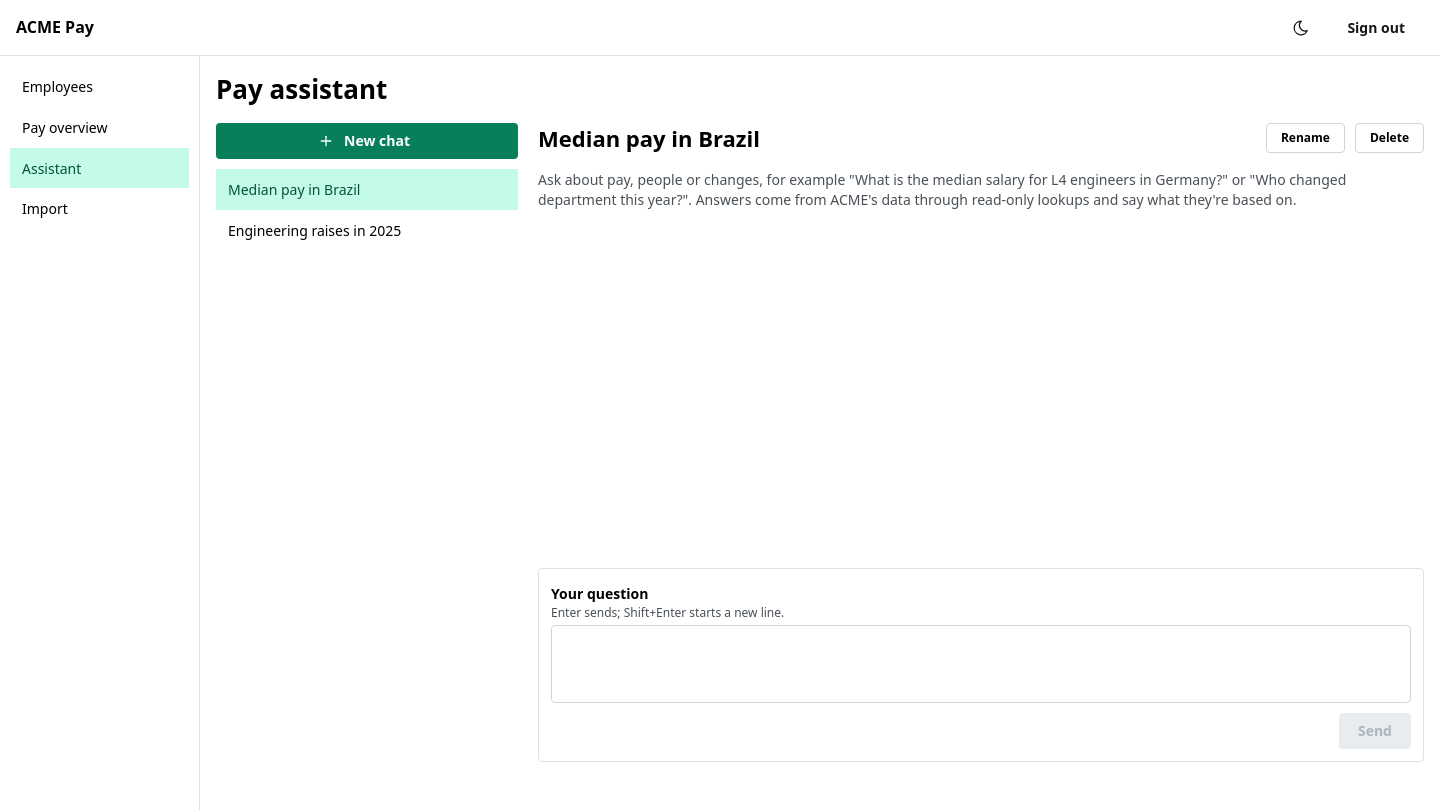
Scenario: Stop ends the stream and shows Stopped
Expected: the button "Send" is disabled, [1339,713,1411,749]
Type "What is the median pay in Brazil?" into the text box labelled "Your question" at (981, 664), box [551,625,1411,703]
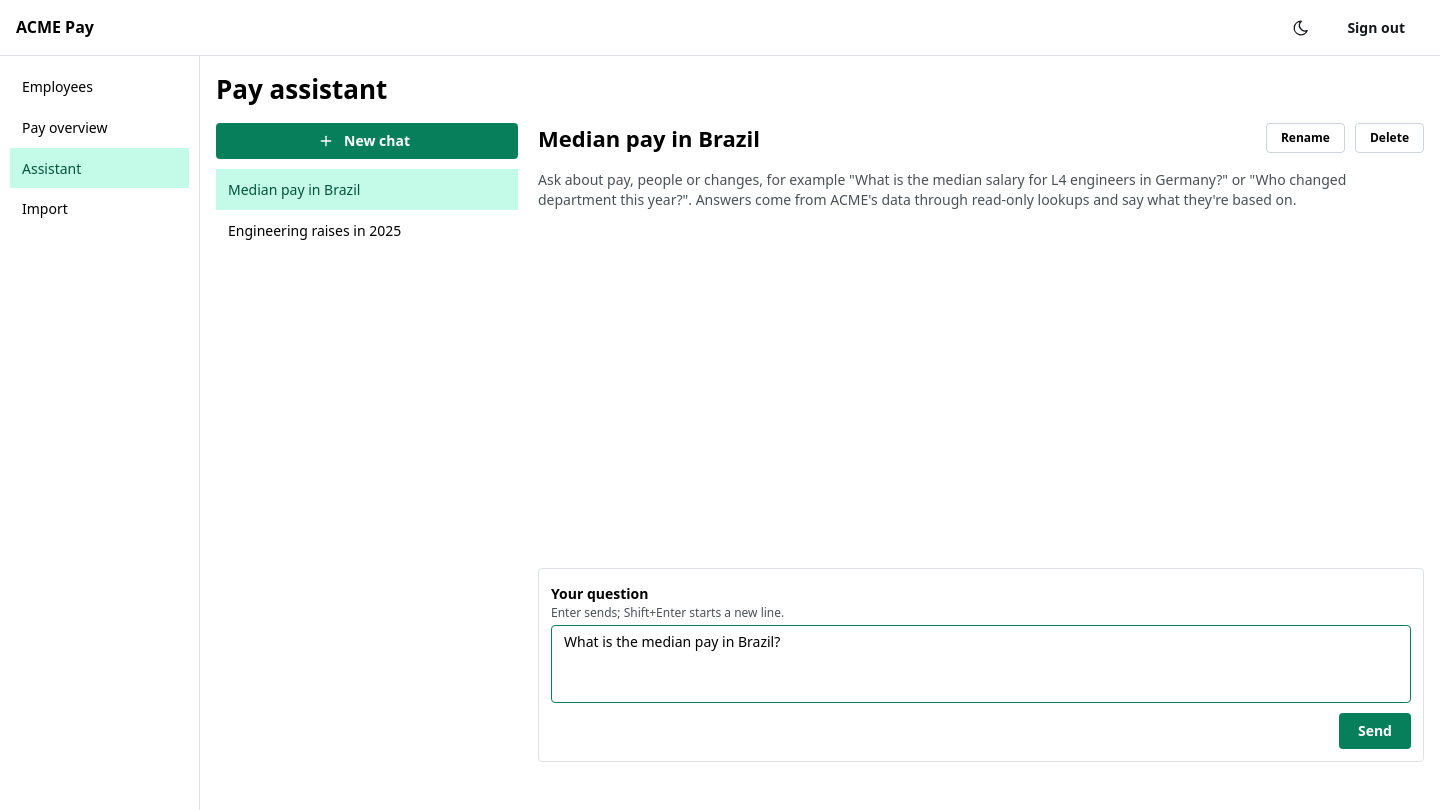
Click the button "Send" at (1375, 731), box [1339,713,1411,749]
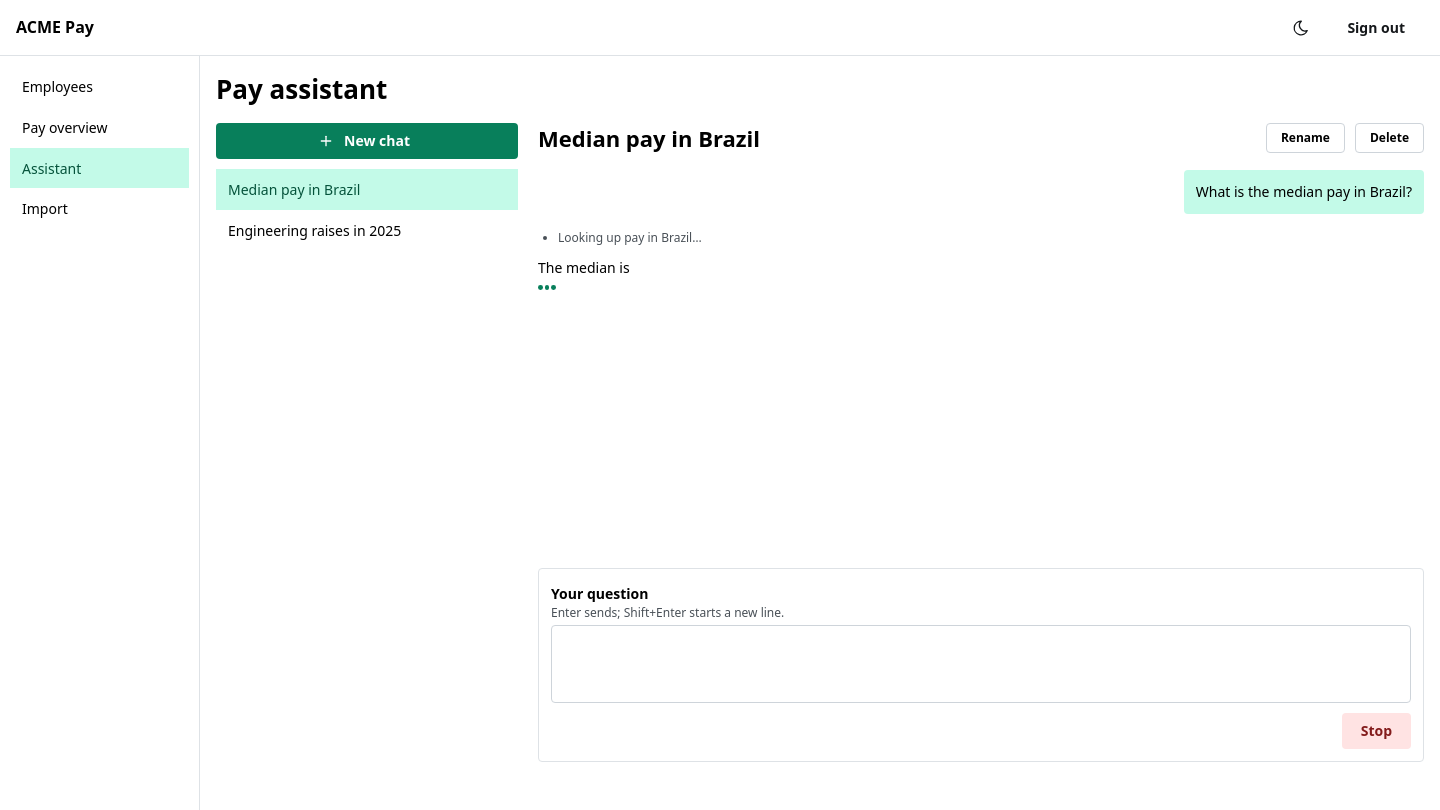
Now the text "Looking up pay in Brazil…" is shown, box [558,230,702,247]
Now the text "The median is" is shown, box [538,258,630,277]
Now the element named "Question" reads "What is the median pay in Brazil?", box [1196,182,1412,201]
Click the button "Stop" at (1376, 731), box [1342,713,1411,749]
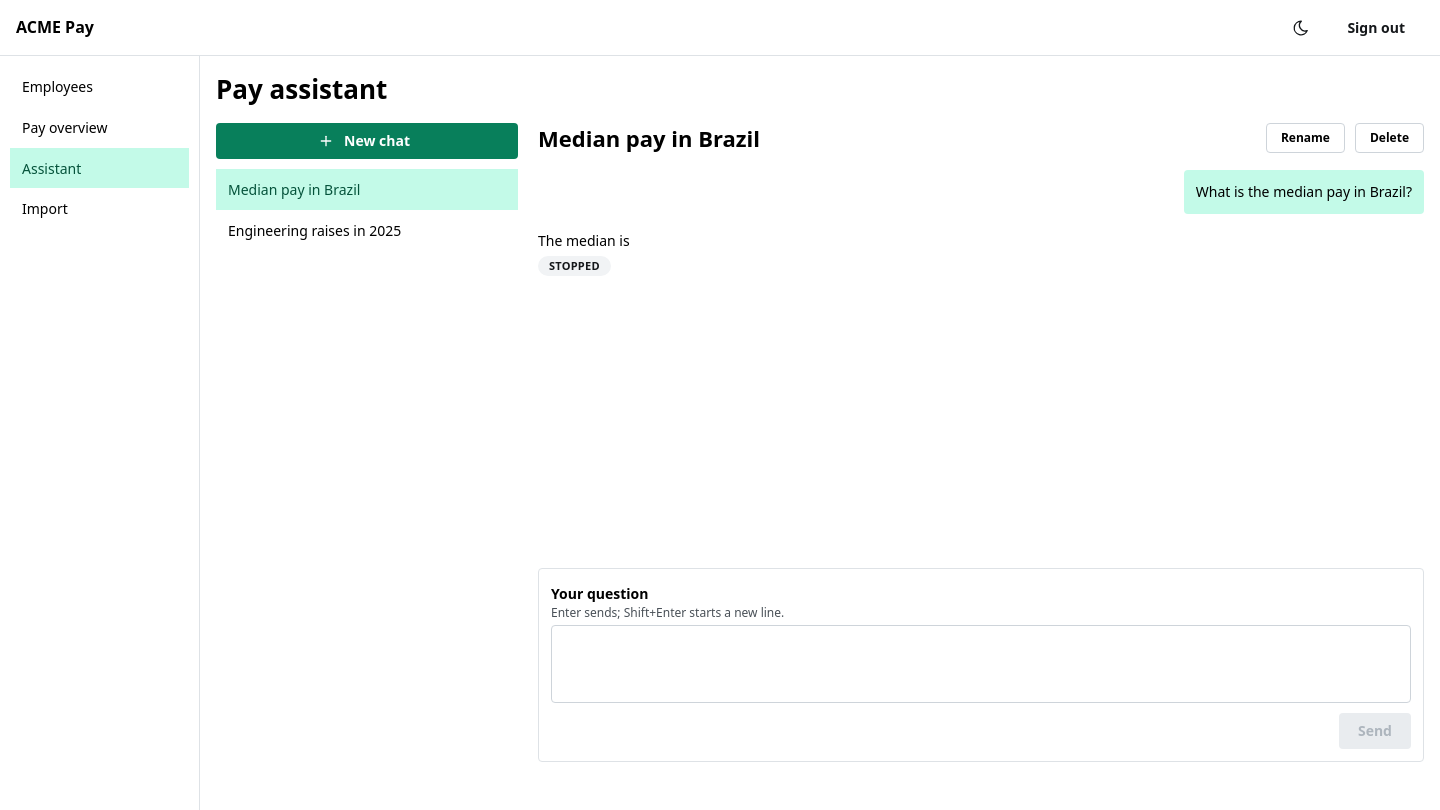
Now the element named "Answer" shows "The median is", box [538,231,630,250]
Now the element named "Answer" shows "Stopped", box [549,258,600,273]
Now the button "Send" is shown, box [1339,713,1411,749]
